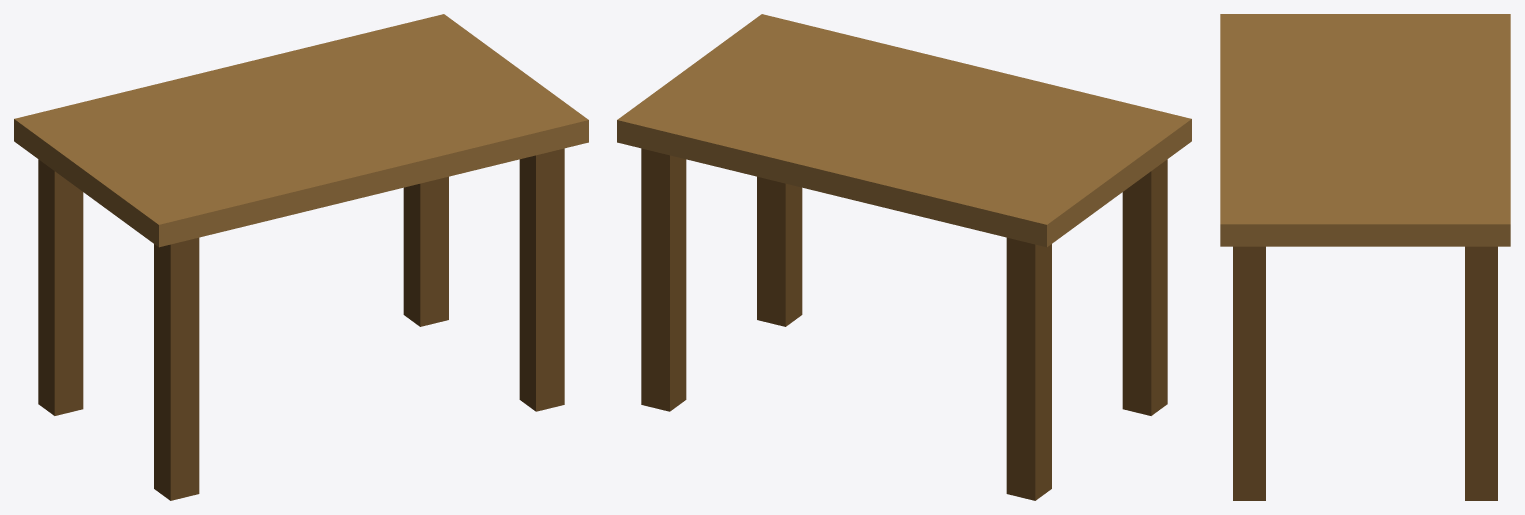
The model's file is table.glb.
3 renders of one model, left to right at view 1: azimuth 30°, elevation 25°; view 2: azimuth 150°, elevation 25°; view 3: azimuth 270°, elevation 25°, orthographic.
Parts seen in each view (by area): view 1: top, leg_front_right, leg_front_left, leg_back_right, leg_back_left; view 2: top, leg_back_right, leg_back_left, leg_front_right, leg_front_left; view 3: top, leg_front_left, leg_back_left.
Part boxes in pixels (<box>): top: <box>14,14,588,247</box>; leg_front_right: <box>154,237,199,500</box>; leg_front_left: <box>519,148,564,411</box>; leg_back_right: <box>38,159,83,415</box>; leg_back_left: <box>403,176,448,326</box>; top: <box>617,14,1191,247</box>; leg_back_right: <box>1006,237,1051,500</box>; leg_back_left: <box>641,148,686,411</box>; leg_front_right: <box>1122,159,1167,415</box>; leg_front_left: <box>757,176,802,326</box>; top: <box>1220,14,1510,246</box>; leg_front_left: <box>1233,246,1265,500</box>; leg_back_left: <box>1465,246,1497,500</box>.
Size of the model in its own units: 1.2 by 0.76 by 0.7.
